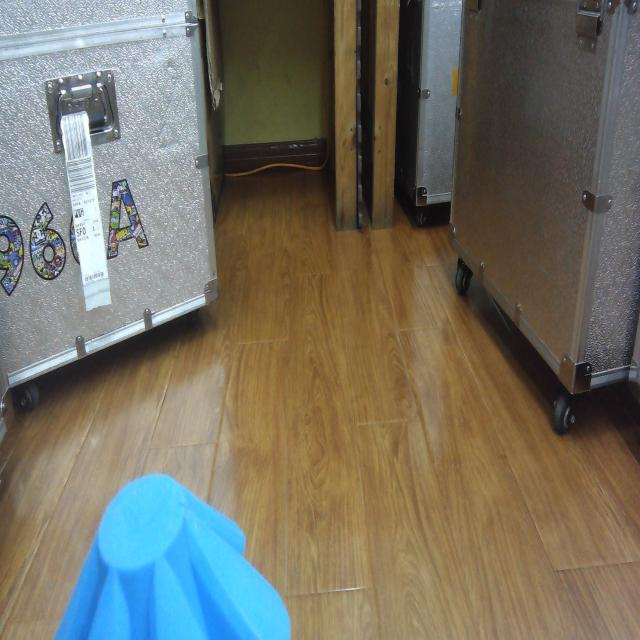zblue-Stake-Head: (54, 471, 291, 640)
